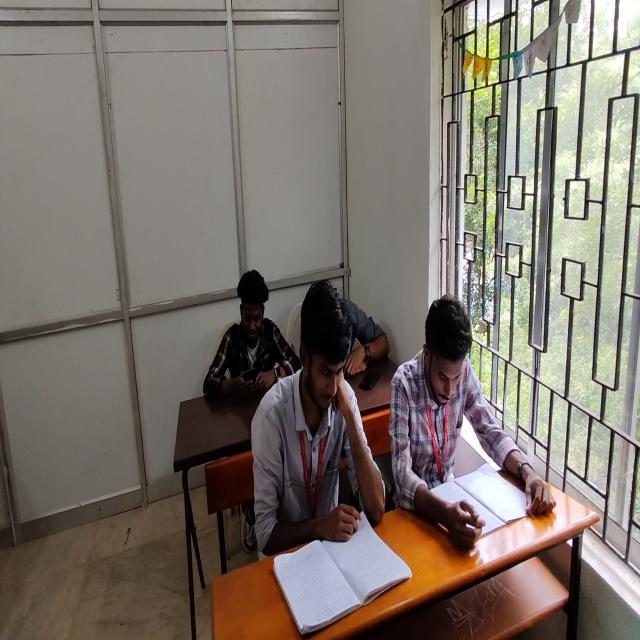reading: (250, 277, 387, 562), (403, 290, 555, 540)
sleeping: (326, 292, 389, 380)
using_mobile: (201, 268, 300, 399)
